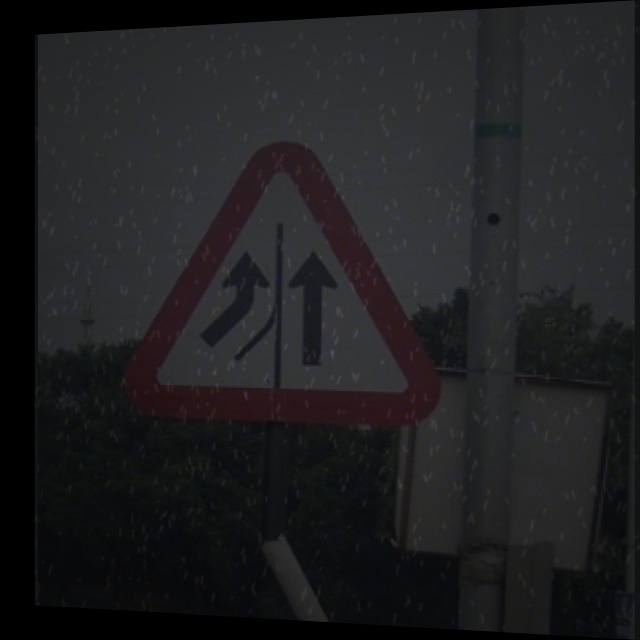Merge_Traffic_Ahead: (120, 130, 450, 443)
